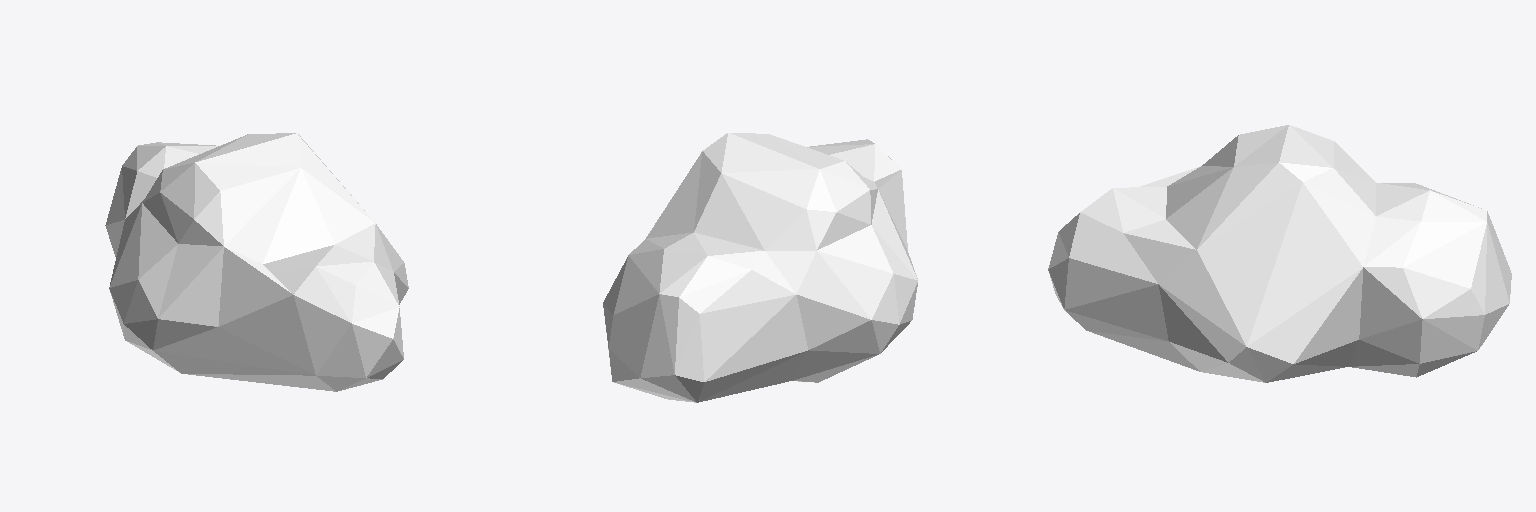
Rendered from nuvem-3.obj.
3 views of the same model, side by side, from view 1: azimuth 30°, elevation 25°; view 2: azimuth 150°, elevation 25°; view 3: azimuth 270°, elevation 25° (orthographic).
Visible parts, largest first — view 1: nuvem3_Cube.001; view 2: nuvem3_Cube.001; view 3: nuvem3_Cube.001.
Part boxes in pixels (bbox=[...]): nuvem3_Cube.001: bbox=[105, 133, 408, 391]; nuvem3_Cube.001: bbox=[603, 133, 917, 402]; nuvem3_Cube.001: bbox=[1048, 125, 1511, 382].
Size of the model in its own units: 4.39 by 3.6 by 6.68.